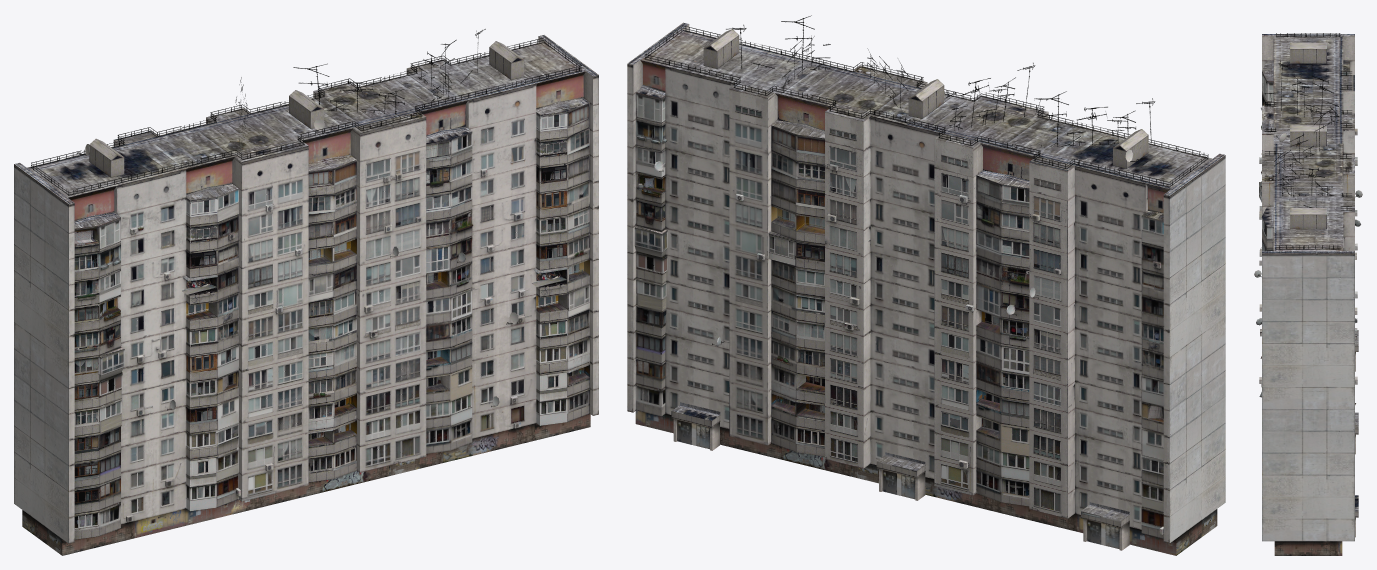
File: detailed_12_storey_panel_apartment_building.glb
3 renders of one model, left to right at view 1: azimuth 30°, elevation 25°; view 2: azimuth 150°, elevation 25°; view 3: azimuth 270°, elevation 25°, orthographic. The views are drawn at different scales.
Parts seen in each view (by area): view 1: 12stbuilding1_LOD0; view 2: 12stbuilding1_LOD0; view 3: 12stbuilding1_LOD0.
Boxes of the visible parts, box(x1,y1,x2,y2) form: 12stbuilding1_LOD0: box(14, 29, 598, 555); 12stbuilding1_LOD0: box(627, 15, 1225, 555); 12stbuilding1_LOD0: box(1254, 33, 1362, 555).
Size of what is drawn, in the model's own units: 53.93 by 40.09 by 11.31.
2 materials, 2 textured.
